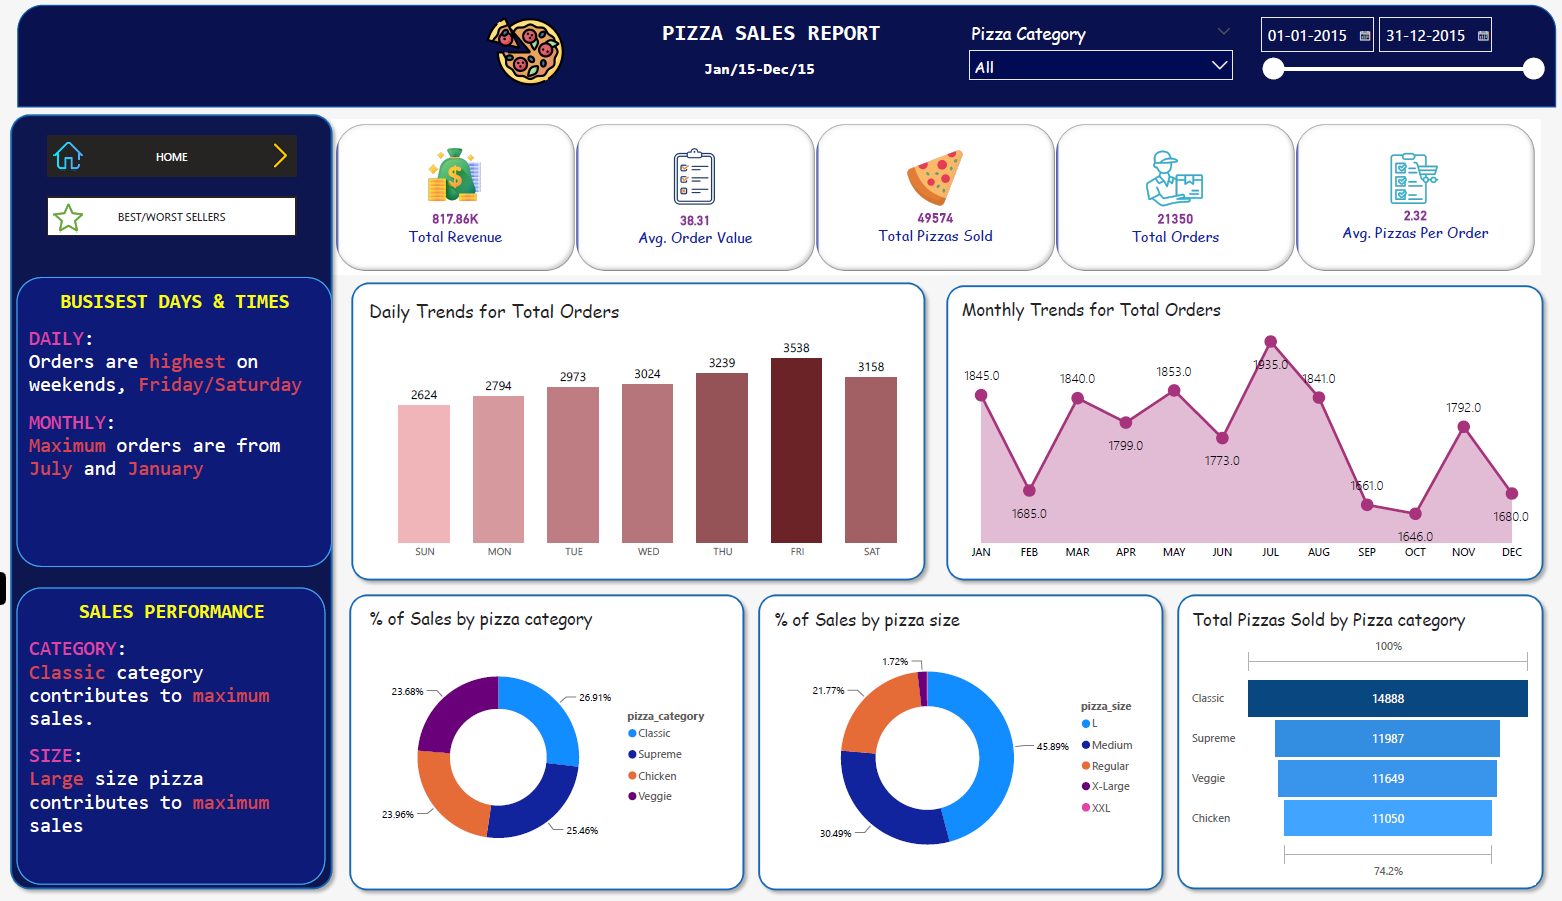

Layout of this report page (visuals, bound fields, positions):
{"tool":"powerbi","page":{"name":"HOME","canvas":[1900,1100],"ordinal":0},"visuals":[{"type":"cardVisual","fields":{"Data":["pizza_sales.Total Revenue","pizza_sales.Avg. Order Value","pizza_sales.Total Pizzas Sold","pizza_sales.Total Orders","pizza_sales.Avg. Pizzas Per Order"]},"box":[406.4,144.7,1459.6,187.2],"z":0},{"type":"shape","box":[25.5,6.4,1859.6,123.4],"z":1000},{"type":"textbox","box":[800,19.1,302.1,48.9],"z":2000},{"type":"textbox","box":[851.1,68.1,197.9,44.7],"z":3000},{"type":"image","box":[568.1,10.6,142.6,102.1],"z":4000},{"type":"shape","box":[420.8,333.3,710.4,377.1],"z":5000},{"type":"columnChart","title":"Daily Trends for Total Orders","fields":{"Category":["pizza_sales.Order Day"],"Y":["pizza_sales.Total Orders"]},"box":[445.8,360.4,685.4,325],"z":6000},{"type":"shape","box":[1140,336,738,374],"z":7000},{"type":"areaChart","title":"Monthly Trends for Total Orders","fields":{"Category":["pizza_sales.Order Month"],"Y":["pizza_sales.Total Orders"]},"box":[1162,360,698,326],"z":8000},{"type":"shape","box":[912.5,710.4,506.2,375],"z":9000},{"type":"shape","box":[1418.8,710.4,460.4,372.9],"z":10000},{"type":"shape","box":[418.8,710.4,493.8,375],"z":11000},{"type":"donutChart","title":"% of Sales by pizza category","fields":{"Category":["pizza_sales.pizza_category"],"Y":["pizza_sales.Total Revenue"]},"box":[445.8,733.3,431.2,335.4],"z":12000},{"type":"donutChart","title":"% of Sales by pizza size","fields":{"Y":["pizza_sales.Total Revenue"],"Category":["pizza_sales.pizza_size"]},"box":[935.4,735.4,460.4,333.3],"z":13000},{"type":"funnel","title":"Total Pizzas Sold by Pizza category","fields":{"Category":["pizza_sales.pizza_category"],"Y":["pizza_sales.Total Pizzas Sold"]},"box":[1439.6,735.4,420.8,333.3],"z":14000},{"type":"shape","box":[8.5,129.8,406.4,953.2],"z":15000},{"type":"textbox","box":[25,335.4,381.2,350],"z":16000},{"type":"textbox","box":[25,710.4,372.9,358.3],"z":17000},{"type":"slicer","fields":{"Values":["pizza_sales.pizza_category"]},"box":[1166,21.3,338.3,91.5],"z":18000},{"type":"slicer","fields":{"Values":["pizza_sales.order_date"]},"box":[1514.9,10.6,363.8,102.1],"z":19000},{"type":"pageNavigator","box":[62.2,163.5,301.4,50],"z":20000},{"type":"pageNavigator","box":[62.2,237.8,301.4,47.3],"z":21000},{"type":"image","box":[323.7,165.8,39.5,44.7],"z":22000},{"type":"image","box":[61.8,240.8,50,44.7],"z":23000},{"type":"image","box":[61.8,165.8,50,44.7],"z":24000}]}

Visuals, with their boxes in screenshot pixels (x1, y1, x2, y2), scaled from the page's 1900x1100 canvas onto the 1562x901 screenshot:
cardVisual - pizza_sales.Total Revenue x pizza_sales.Avg. Order Value: [334,119,1534,272]
shape: [21,5,1550,106]
textbox: [658,16,906,56]
textbox: [700,56,862,92]
image: [467,9,584,92]
shape: [346,273,930,582]
"Daily Trends for Total Orders" columnChart: [366,295,930,561]
shape: [937,275,1544,582]
"Monthly Trends for Total Orders" areaChart: [955,295,1529,562]
shape: [750,582,1166,889]
shape: [1166,582,1545,887]
shape: [344,582,750,889]
"% of Sales by pizza category" donutChart: [366,601,721,875]
"% of Sales by pizza size" donutChart: [769,602,1147,875]
"Total Pizzas Sold by Pizza category" funnel: [1184,602,1529,875]
shape: [7,106,341,887]
textbox: [21,275,334,561]
textbox: [21,582,327,875]
slicer - pizza_sales.pizza_category: [959,17,1237,92]
slicer - pizza_sales.order_date: [1245,9,1544,92]
pageNavigator: [51,134,299,175]
pageNavigator: [51,195,299,234]
image: [266,136,299,172]
image: [51,197,92,234]
image: [51,136,92,172]
